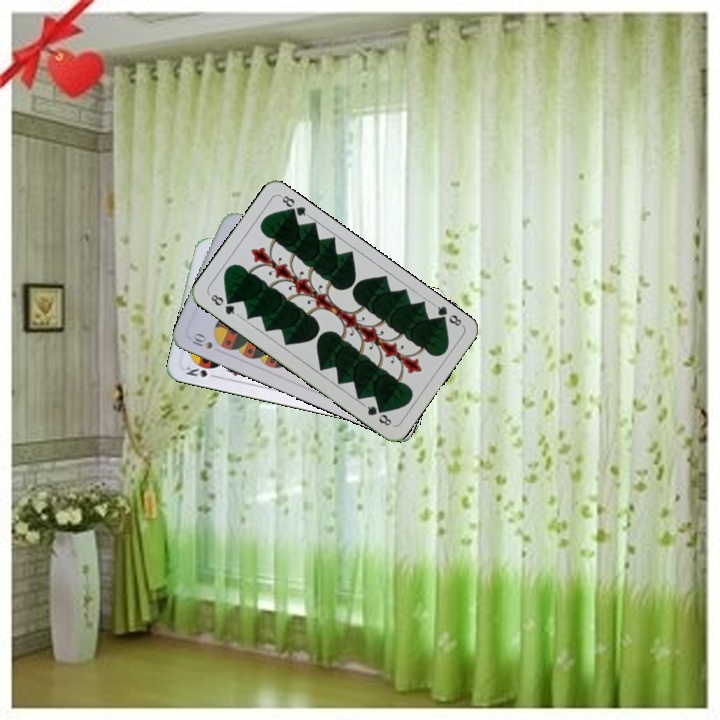G8: (430, 300, 465, 330), (205, 290, 241, 318)
S10: (187, 329, 215, 352)
SK: (182, 362, 221, 381)
